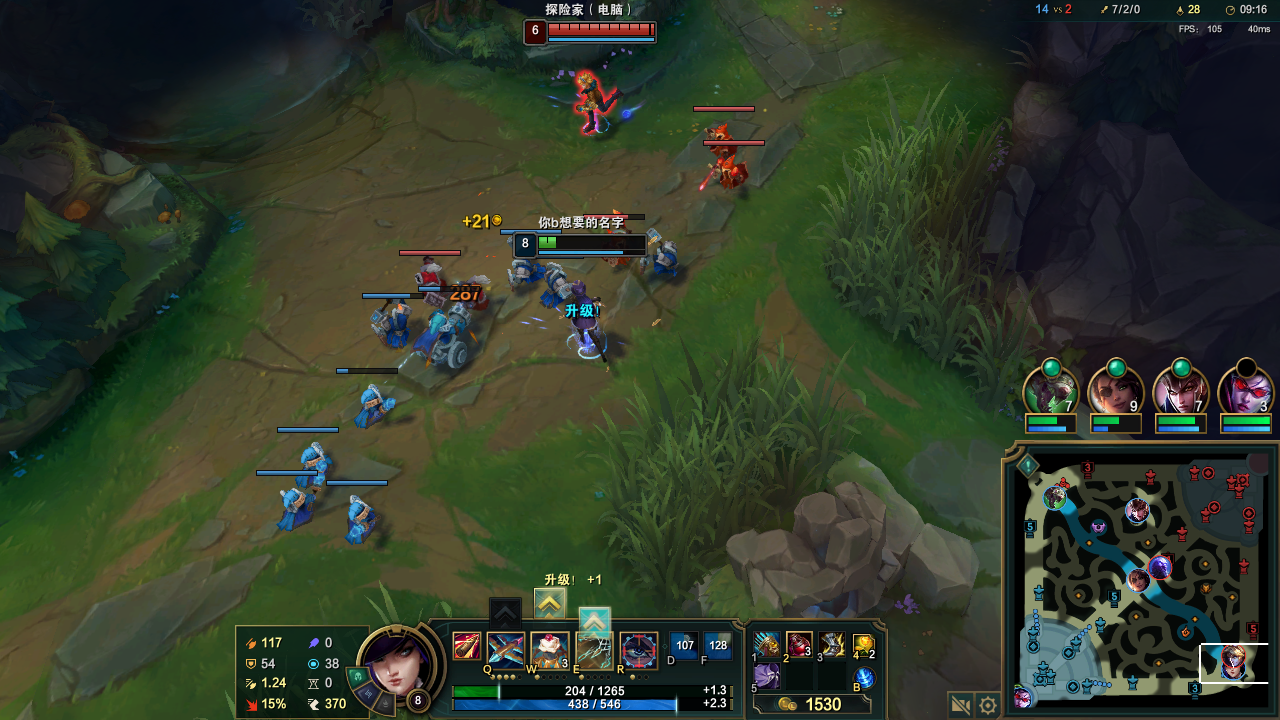DFXB: (718, 158, 747, 186), (418, 261, 444, 291), (706, 120, 732, 144)
DFYX: (544, 25, 638, 37)
WFXB: (422, 315, 481, 368), (300, 441, 336, 489), (370, 309, 411, 343), (275, 494, 316, 527), (359, 383, 393, 422), (343, 496, 371, 543), (649, 236, 679, 274), (542, 268, 569, 302), (508, 257, 534, 284)
